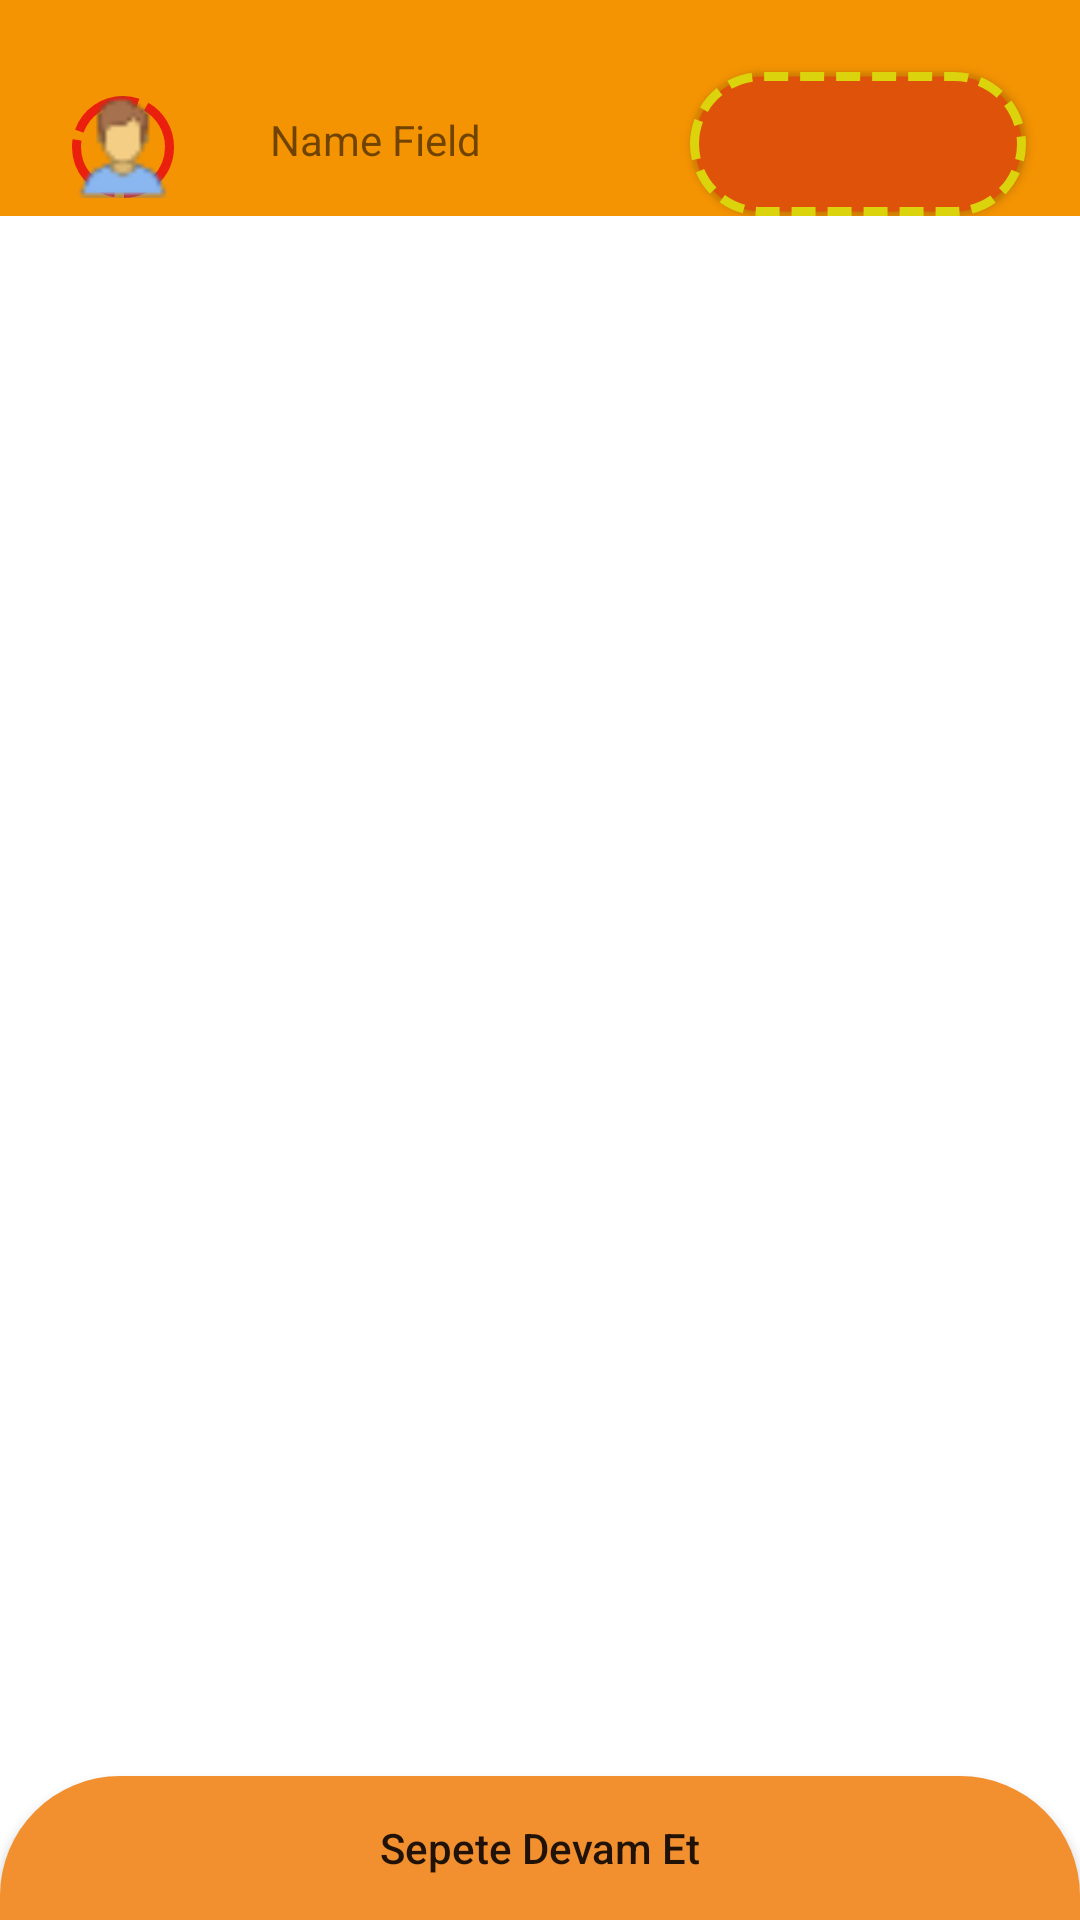

Named icons in this screenshot (1080 x 1920) and their bounding boxes, [x1, y1, x2, y2]:
male: [72, 96, 174, 198]
